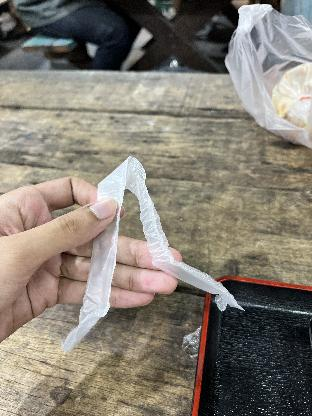Others: (62, 151, 250, 353), (224, 0, 312, 150)
